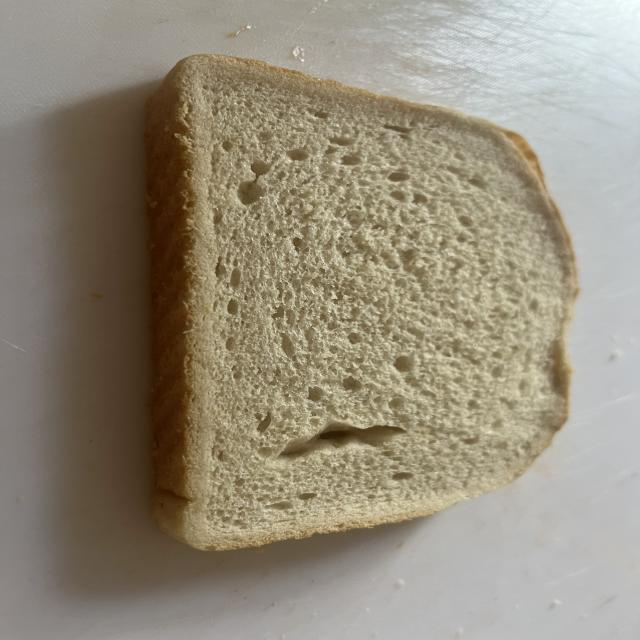sliced_bread: (145, 55, 576, 550)
